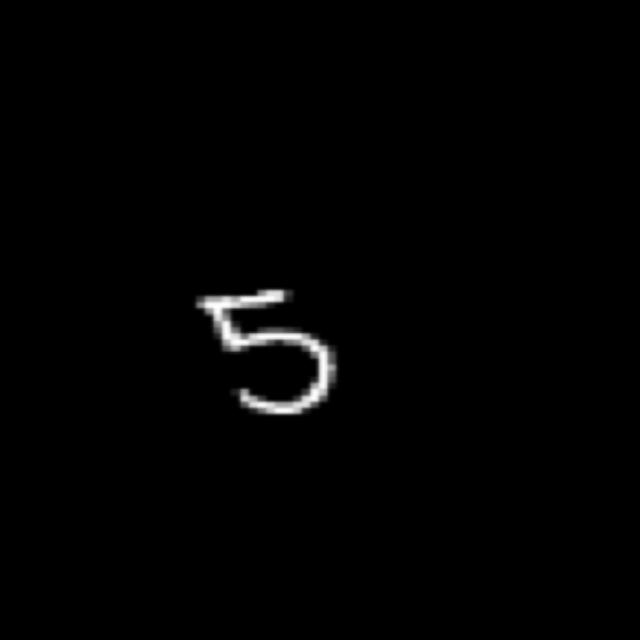five -5-: (183, 277, 350, 429)
